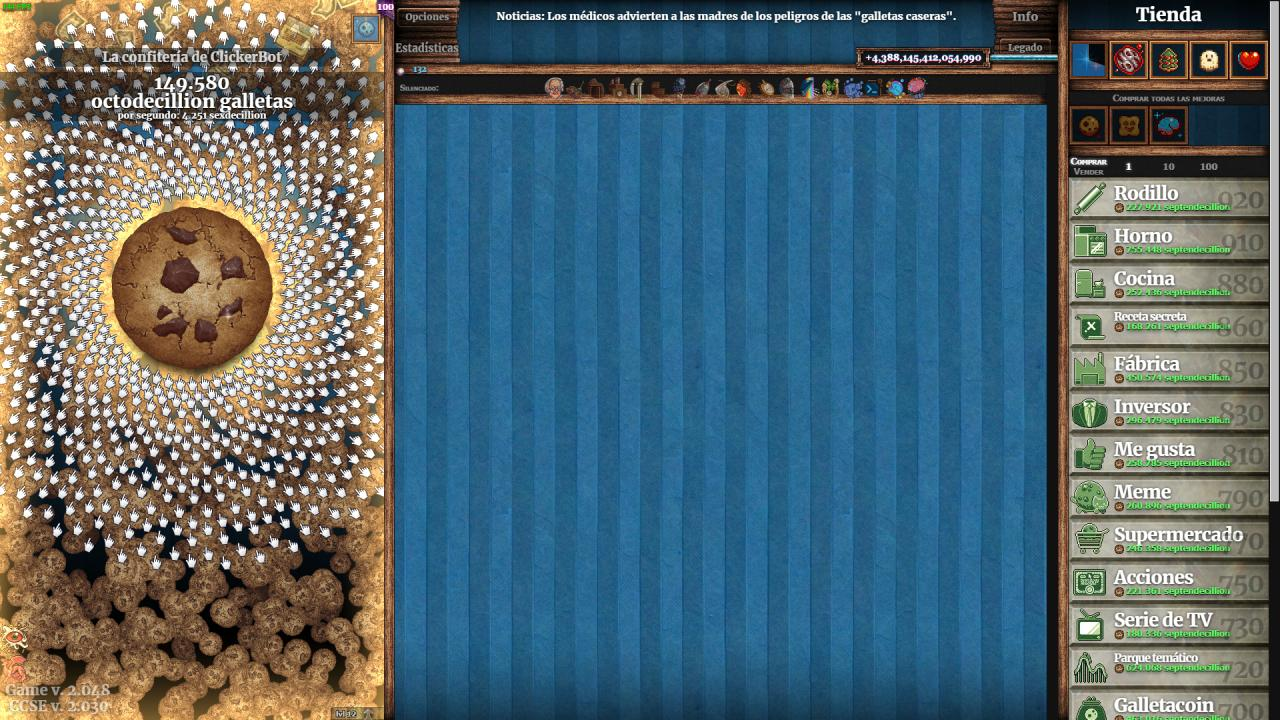GoldenCartridge: (274, 14, 321, 62)
